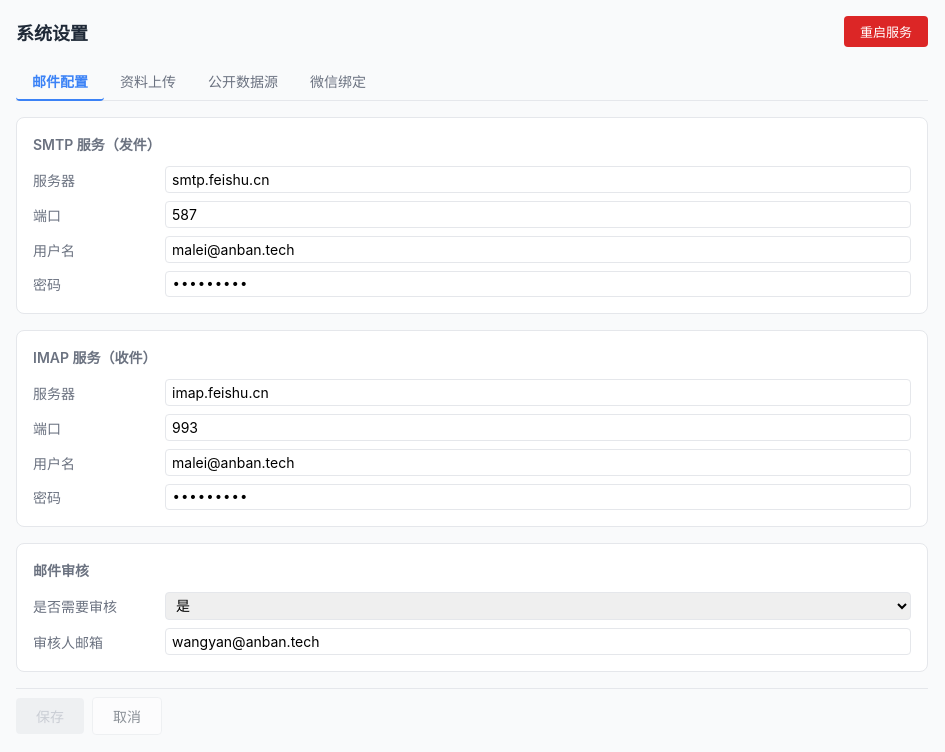
Test: Settings 邮件配置 tab - 常驻可编辑 + 底部统一保存 › 保存成功 → 显示'已保存'提示
This screenshot has width=945, height=752.
Check: the button with test id "email-config-save" is shown, box [16,698,84,734]
Replace the text in the field with test id "smtp-host" with "smtp.new.cn": (538, 180) [165,166,911,193]
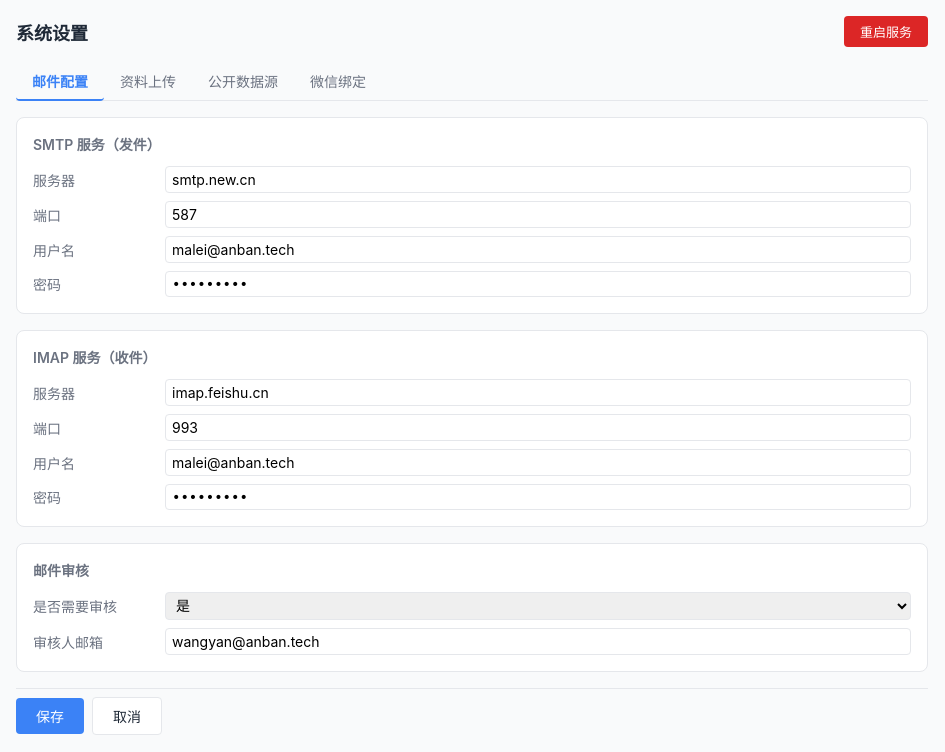
Click the button with test id "email-config-save": (50, 716) [16,698,84,734]
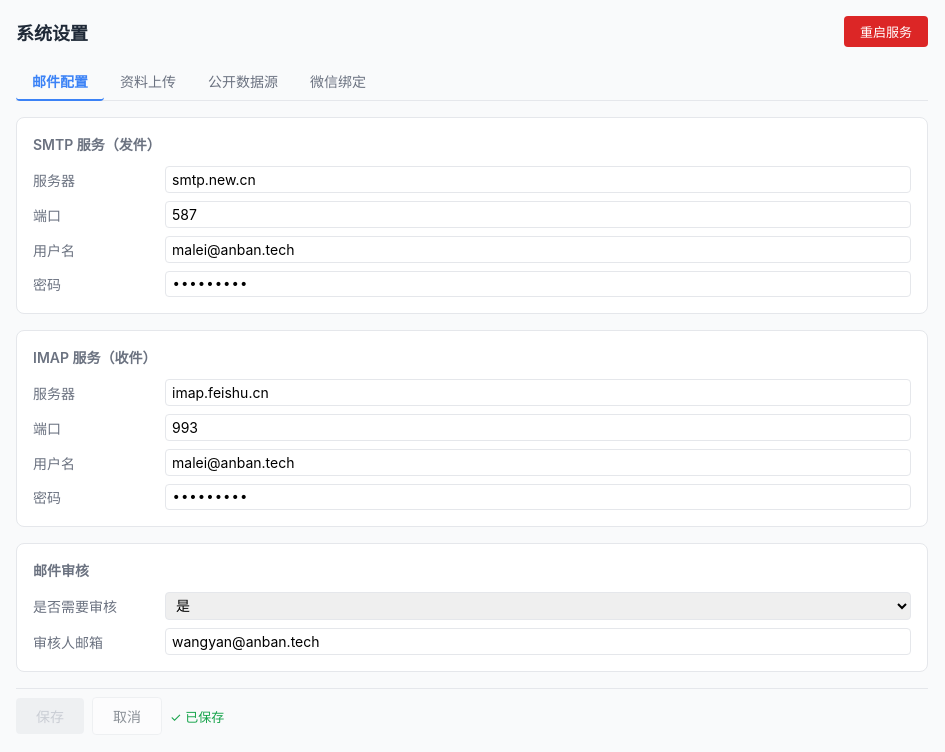
Check: the text "✓ 已保存" is shown, box [170,706,224,726]
Check: the text with test id "email-config-saved-msg" shows "已保存", box [170,708,224,724]
